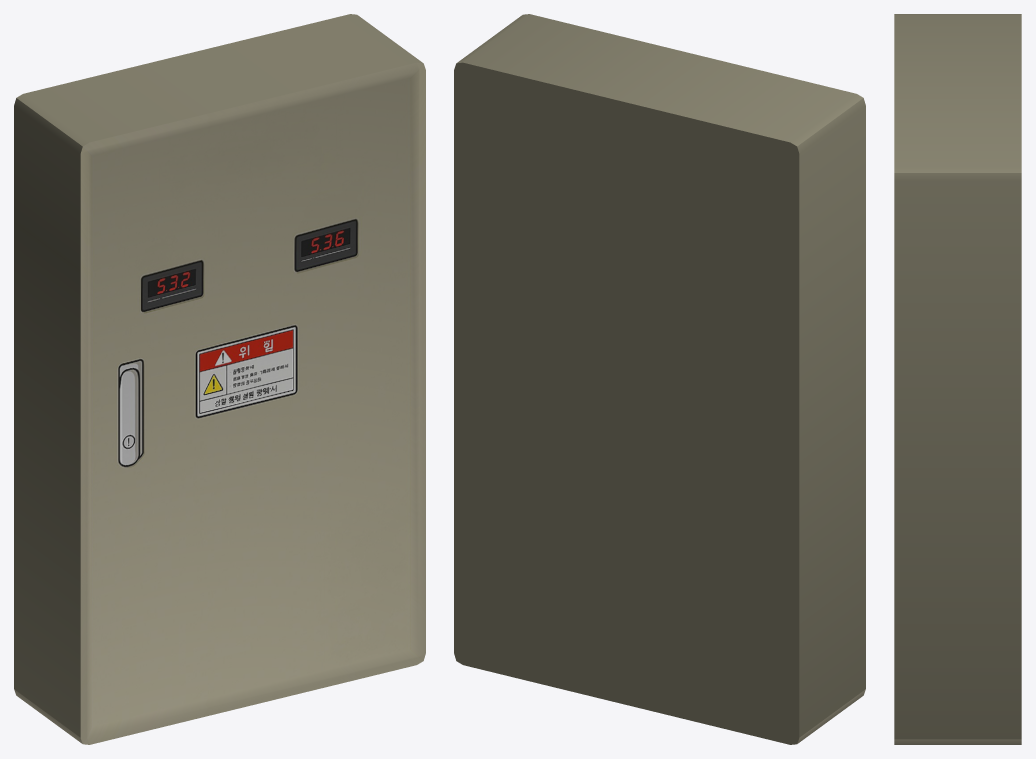
The picture shows the model from 3 angles, left to right: view 1: azimuth 30°, elevation 25°; view 2: azimuth 150°, elevation 25°; view 3: azimuth 270°, elevation 25°; orthographic projection. The views are drawn at different scales.
Parts seen in each view (by area): view 1: PLC본체(전원환경감시)036; view 2: PLC본체(전원환경감시)036; view 3: PLC본체(전원환경감시)036.
Boxes of the visible parts, x1,y1,x2,y2 form: PLC본체(전원환경감시)036: (14,14,425,744); PLC본체(전원환경감시)036: (454,14,865,744); PLC본체(전원환경감시)036: (894,14,1021,744).
Size of the model in its own units: 0.6 by 1 by 0.2.
Materials: 2 (1 with a texture image).
